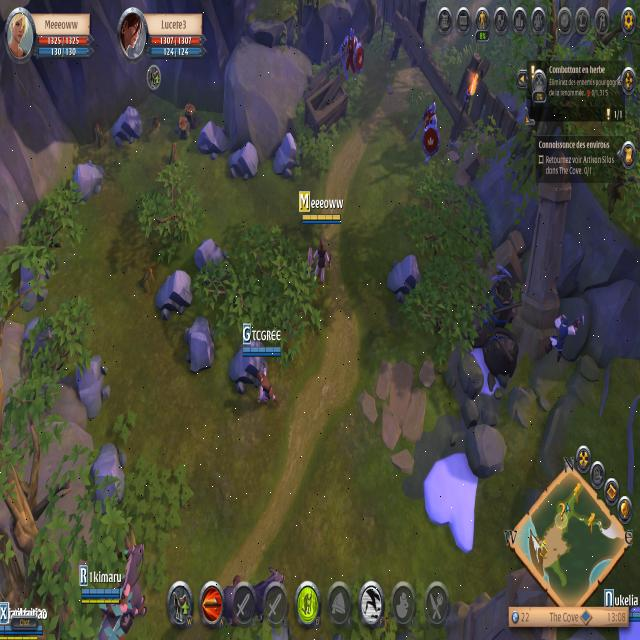stone: (85, 433, 127, 517), (385, 246, 423, 306), (72, 354, 108, 416), (154, 266, 194, 319), (182, 314, 215, 376), (228, 336, 262, 395), (23, 316, 55, 378), (16, 251, 49, 309), (193, 234, 229, 279), (196, 113, 228, 162), (69, 158, 105, 200), (269, 132, 300, 180), (110, 101, 142, 146), (227, 140, 260, 183)
